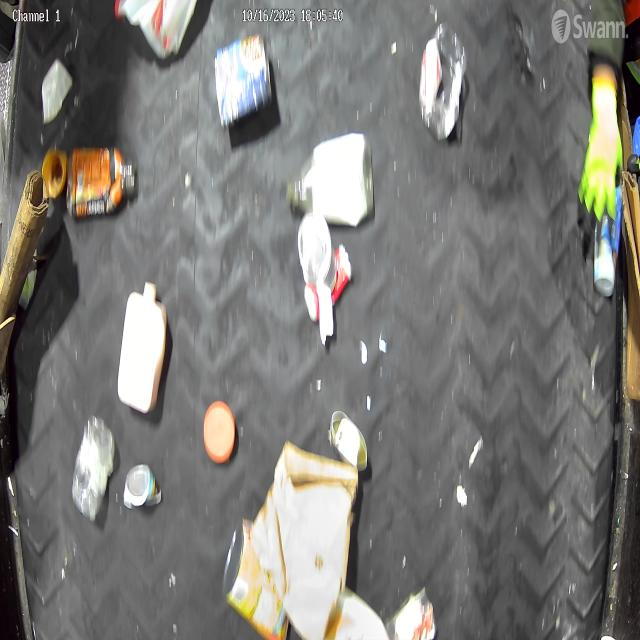can: (215, 32, 274, 126)
